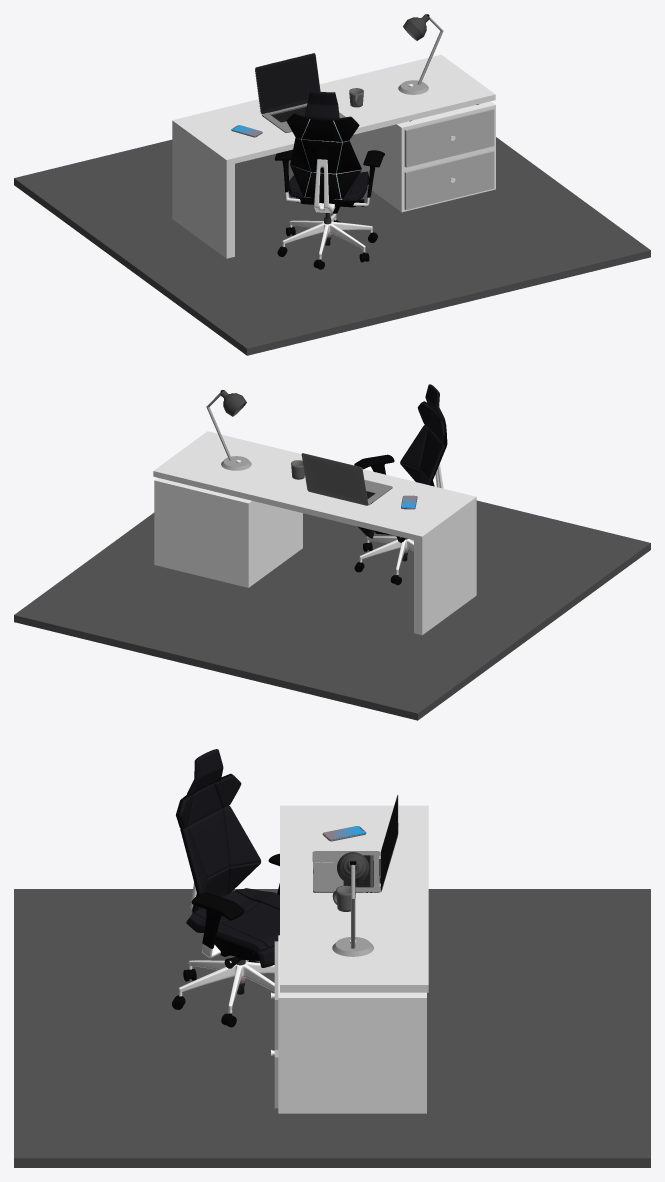
The model's file is Room.gltf.
The picture shows the model from 3 angles, top to bottom: view 1: azimuth 30°, elevation 25°; view 2: azimuth 150°, elevation 25°; view 3: azimuth 270°, elevation 25°; orthographic projection. The views are drawn at different scales.
Visible parts, largest first — view 1: Floor, Top, Drawer, Support, Top.001, Leg, Head.001, Seat.001; view 2: Floor, Top, Drawer, Top.001, Seat.001, Leg, Support; view 3: Floor, Top, Drawer, Seat.001, Support, Leg, Macbook, Head.001, Top.001, Head, Base.
Boxes of the visible parts, x1,y1,x2,y2 form: Floor: (14, 137, 650, 355); Top: (172, 54, 495, 258); Drawer: (349, 101, 495, 212); Support: (274, 113, 384, 213); Top.001: (255, 53, 320, 114); Leg: (277, 213, 377, 269); Head.001: (304, 90, 339, 119); Seat.001: (288, 113, 369, 201); Floor: (14, 500, 650, 720); Top: (153, 431, 476, 635); Drawer: (154, 478, 302, 587); Top.001: (301, 453, 368, 505); Seat.001: (357, 402, 445, 538); Leg: (354, 536, 413, 585); Support: (354, 401, 447, 542); Floor: (14, 889, 650, 1167); Top: (280, 805, 428, 992); Drawer: (274, 935, 426, 1113); Seat.001: (179, 775, 279, 967); Support: (176, 773, 279, 968); Leg: (172, 959, 274, 1027); Macbook: (312, 851, 380, 892); Head.001: (187, 749, 223, 795); Top.001: (379, 795, 398, 891); Head: (337, 852, 369, 883); Base: (332, 937, 373, 956).
Bounding box in the file's own units: 6 × 2.51 × 6.
45 materials, 1 textured.
